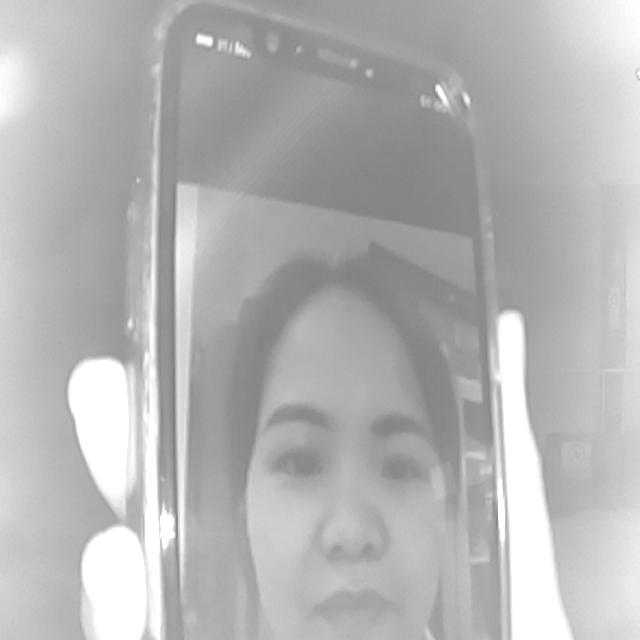fake: (141, 1, 517, 640)
